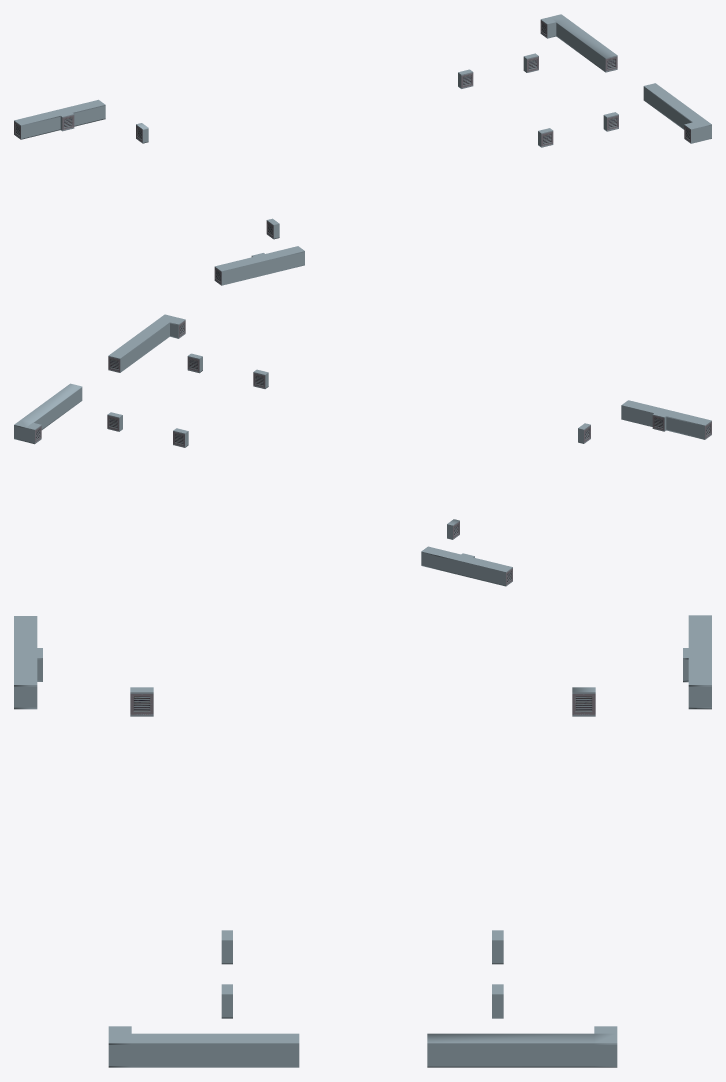
File: mothershipvents2.glb
3 renders of one model, top to bottom at view 1: azimuth 30°, elevation 25°; view 2: azimuth 150°, elevation 25°; view 3: azimuth 270°, elevation 25°, orthographic. The views are drawn at different scales.
Visible parts, largest first — view 1: VentPipe.009, VentPipe.008, VentPipe.001, VentPipe; view 2: VentPipe.008, VentPipe.009, VentPipe, VentPipe.001; view 3: VentPipe.001, VentPipe, VentPipe.008, VentPipe.009.
Boxes of the visible parts, <box> form: VentPipe.009: <box>214,246,304,285</box>; VentPipe.008: <box>14,99,105,139</box>; VentPipe.001: <box>643,83,711,143</box>; VentPipe: <box>540,14,617,72</box>; VentPipe.008: <box>421,546,512,586</box>; VentPipe.009: <box>621,400,711,439</box>; VentPipe: <box>14,383,82,444</box>; VentPipe.001: <box>108,314,185,372</box>; VentPipe.001: <box>108,1026,299,1067</box>; VentPipe: <box>427,1026,617,1067</box>; VentPipe.008: <box>683,615,711,709</box>; VentPipe.009: <box>14,616,42,709</box>.
Bounding box in the file's own units: 87.09 × 2.3 × 60.
1 material, 1 textured.
